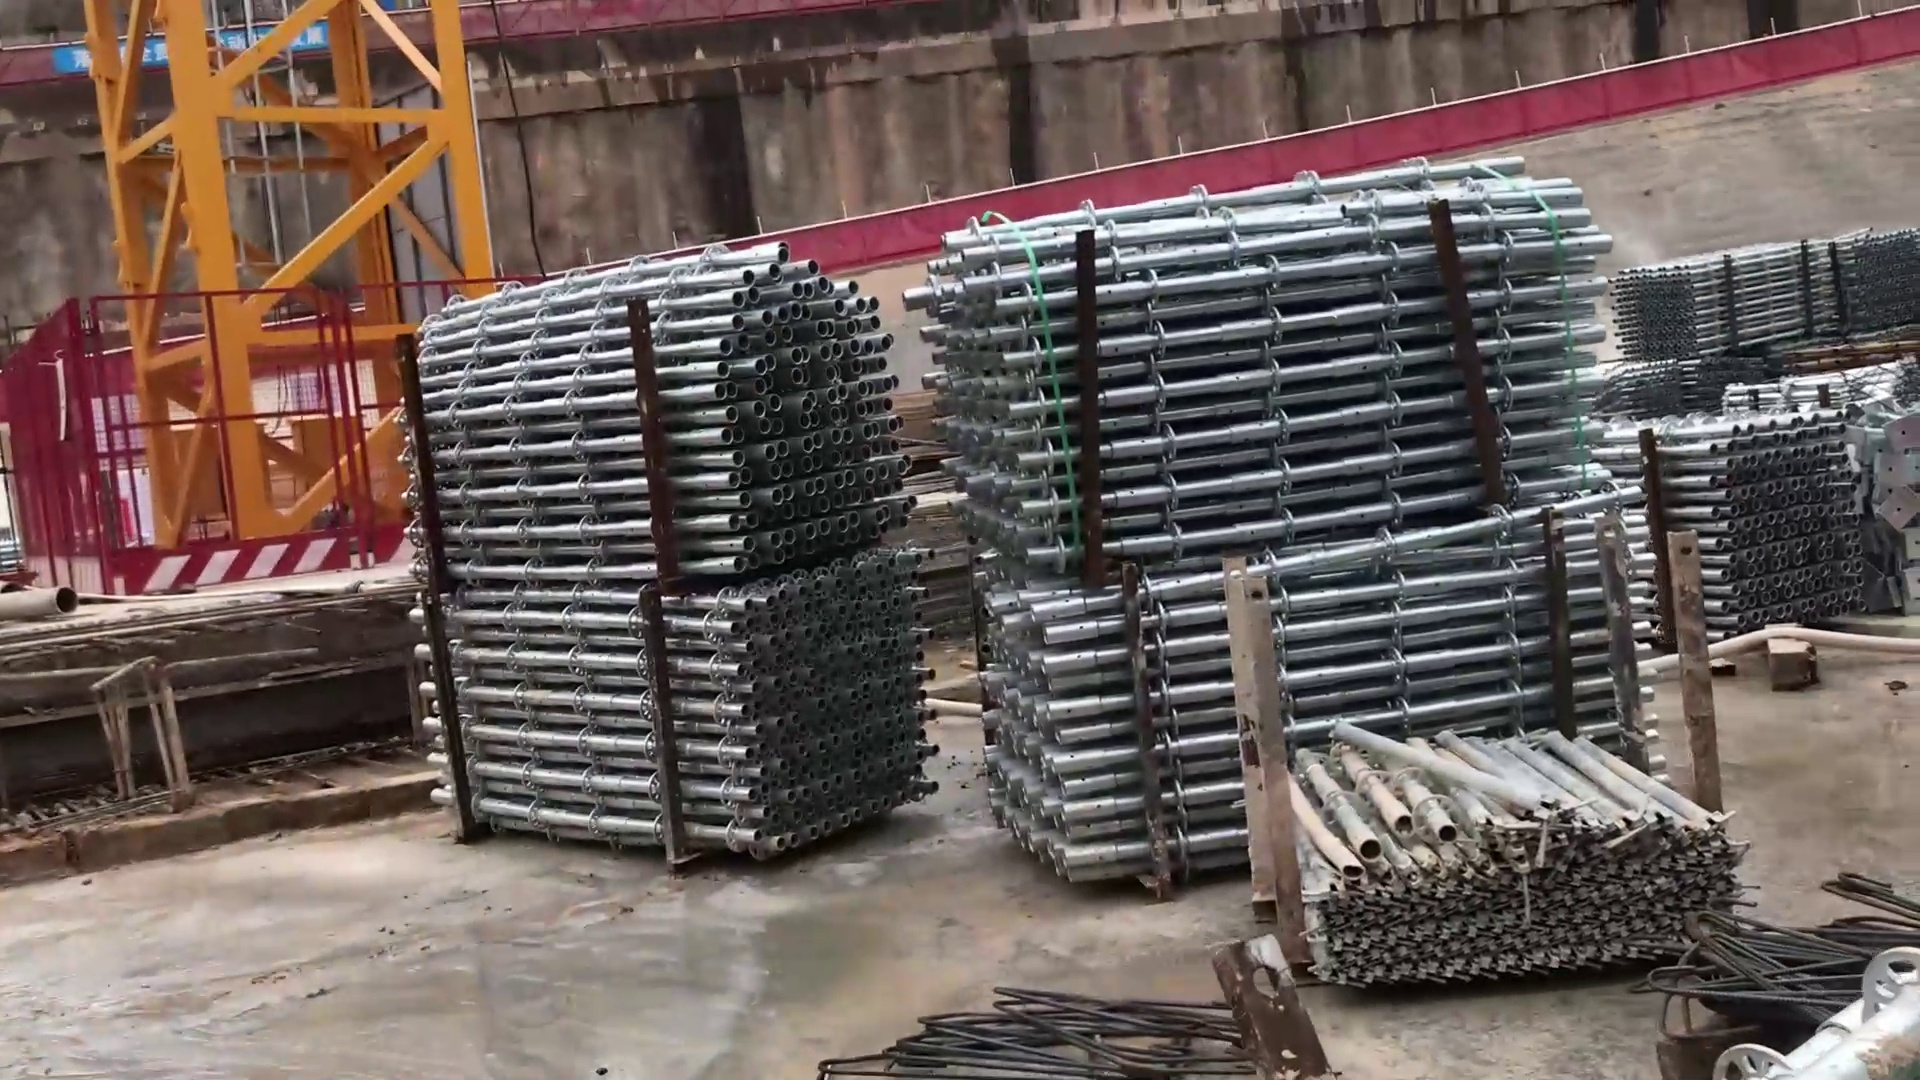fence: (79, 280, 371, 597), (1659, 13, 1902, 105)
rebar: (810, 968, 1263, 1080), (1644, 870, 1920, 1015)
scaffold: (415, 227, 960, 872), (973, 546, 1730, 997), (938, 149, 1580, 520), (1638, 407, 1871, 663), (1615, 237, 1844, 368)
